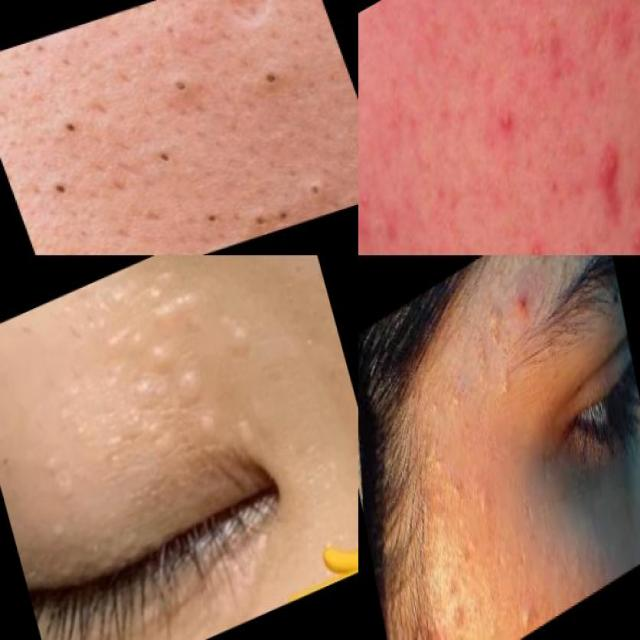9: (494, 93, 524, 148), (515, 224, 549, 255)
blackheads: (68, 255, 212, 365), (82, 347, 181, 464), (188, 0, 305, 50), (590, 120, 636, 236), (214, 299, 258, 366), (472, 259, 506, 341), (170, 355, 212, 415), (140, 328, 185, 380)
dark spot: (15, 88, 119, 170), (235, 171, 335, 238), (232, 53, 302, 114), (42, 155, 98, 221), (420, 356, 467, 432), (137, 128, 192, 179), (502, 586, 548, 640), (483, 360, 522, 421), (437, 446, 469, 518), (192, 203, 232, 252), (432, 564, 466, 617), (472, 475, 498, 531), (166, 72, 199, 103)
